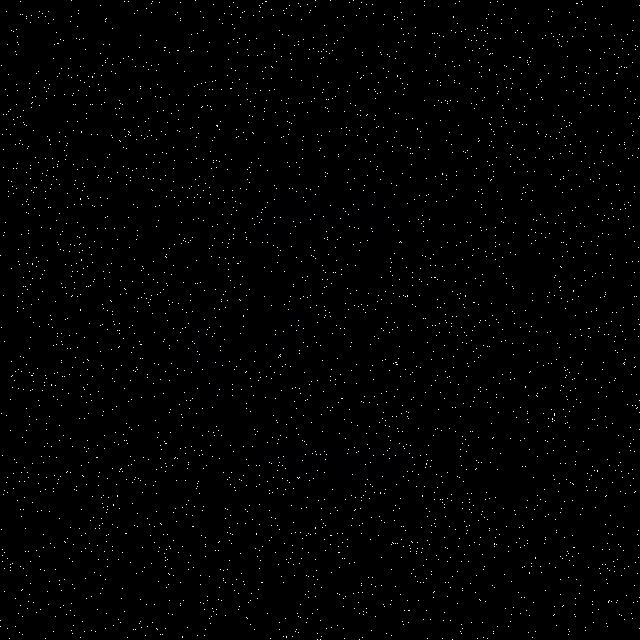Ograniczenie predkosci do 120: (101, 92, 579, 564)
